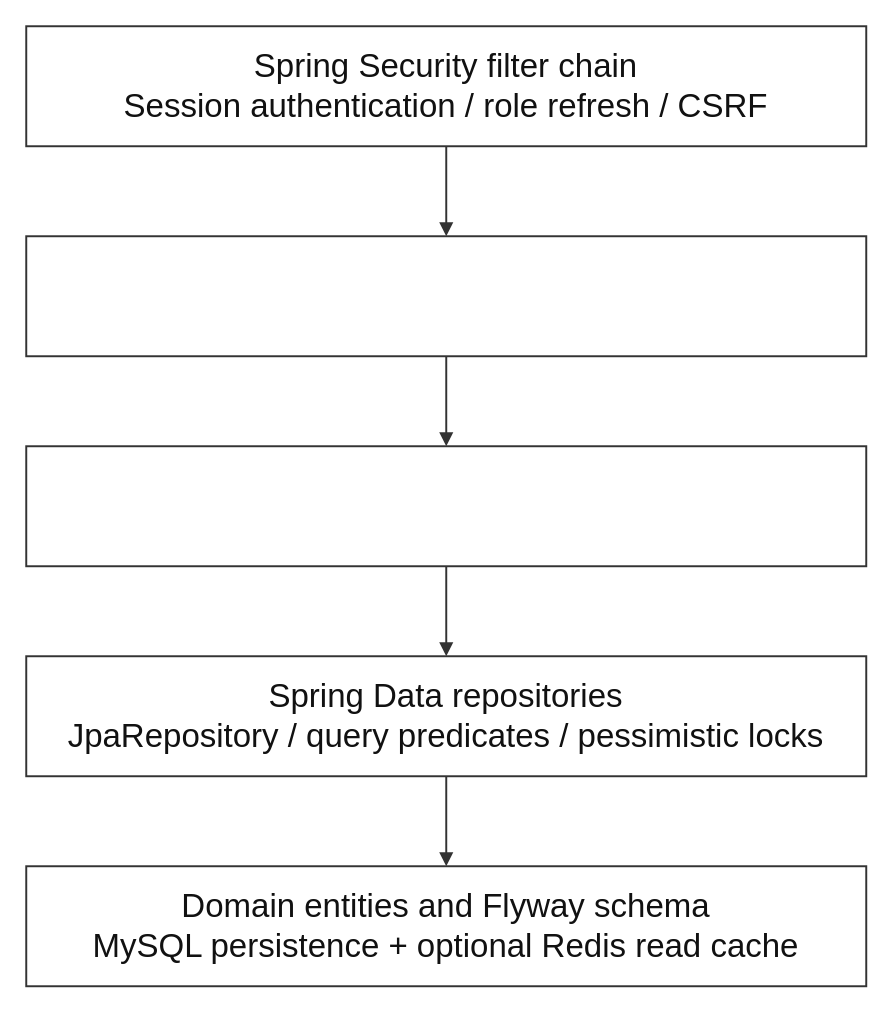
Image size: 894x1014. Some labels were removed from this diagram. Each missing label, with the centre of its shape:
"InventoryService Catalogue / movements / warning episodes / reports" belongs at pixel 446 506.
"REST controllers Endpoint mapping / validated inputs / errors" belongs at pixel 446 296.
